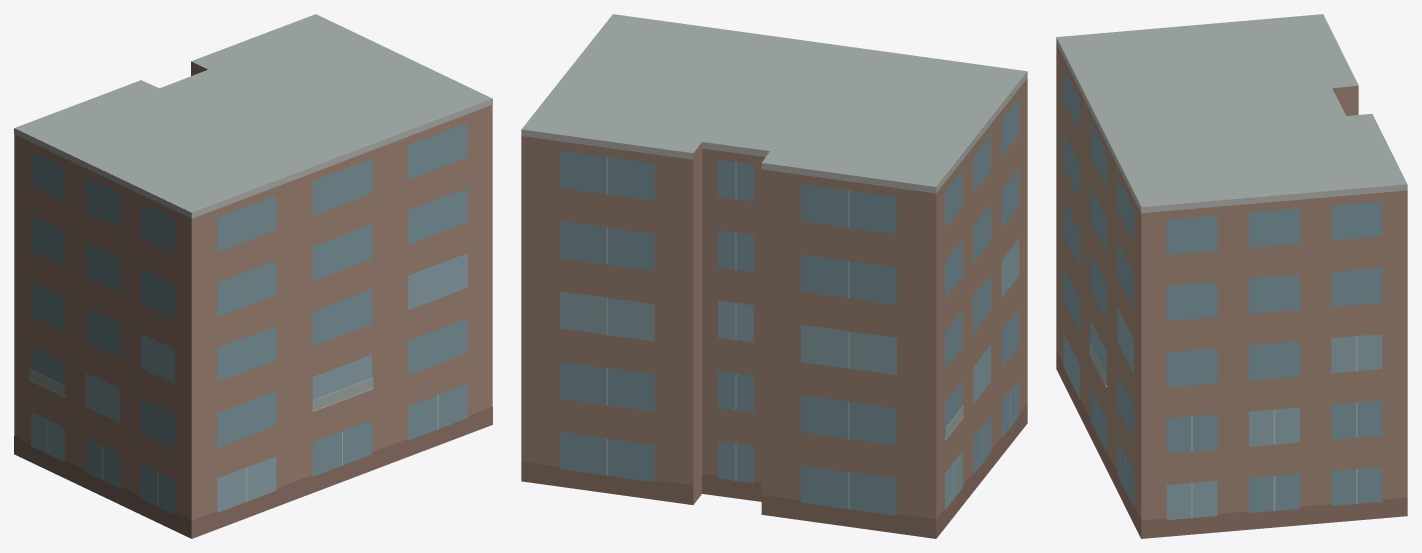
The model's file is survey-upis-32630026.glb.
The picture shows the model from 3 angles, left to right: view 1: azimuth 30°, elevation 25°; view 2: azimuth 150°, elevation 25°; view 3: azimuth 270°, elevation 25°; orthographic projection. The views are drawn at different scales.
Parts seen in each view (by area): view 1: survey-upis-32630026.tmp; view 2: survey-upis-32630026.tmp; view 3: survey-upis-32630026.tmp.
Part boxes in pixels (x1,y1,x2,y2): survey-upis-32630026.tmp: (14, 14, 492, 538); survey-upis-32630026.tmp: (521, 14, 1027, 538); survey-upis-32630026.tmp: (1056, 14, 1407, 538).
Bounding box in the file's own units: 16.49 × 13.2 × 12.67.
